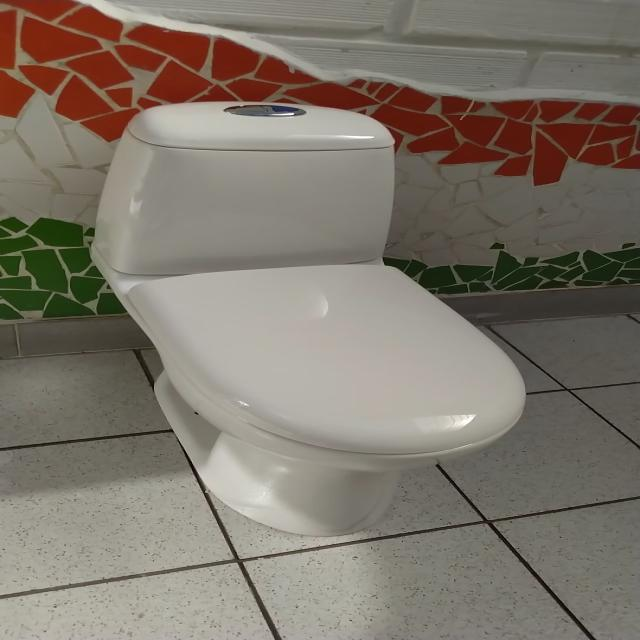toilet: (89, 100, 526, 537)
